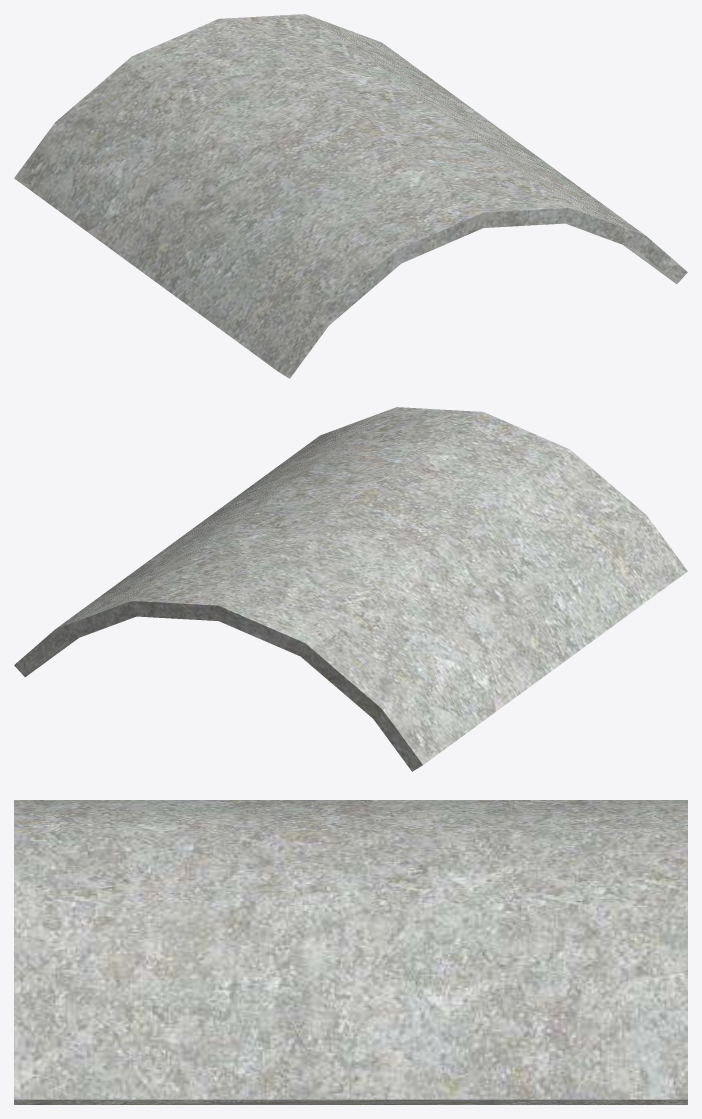
3 renders of one model, top to bottom at view 1: azimuth 30°, elevation 25°; view 2: azimuth 150°, elevation 25°; view 3: azimuth 270°, elevation 25°, orthographic. The views are drawn at different scales.
Visible parts, largest first — view 1: wa; view 2: wa; view 3: wa.
Part boxes in pixels (bbox=[...]): wa: bbox=[14, 14, 687, 378]; wa: bbox=[14, 407, 687, 771]; wa: bbox=[14, 800, 687, 1104].
Bounding box in the file's own units: 8.57 × 2.38 × 9.6.
Materials: 1 (1 with a texture image).
